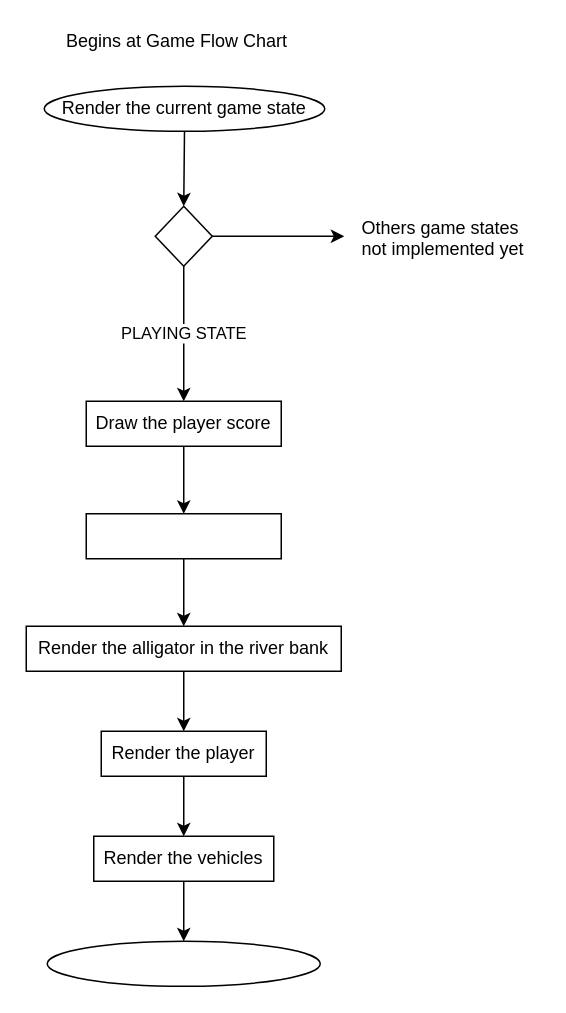
This 566x1013 diagram has some shape labels left out. The shapes that lost their labels are listed below. From the top down, each one's centre as x and y in pixels, then its label:
the point at 183,535: Render the river items
the point at 183,963: Back to game render() method
